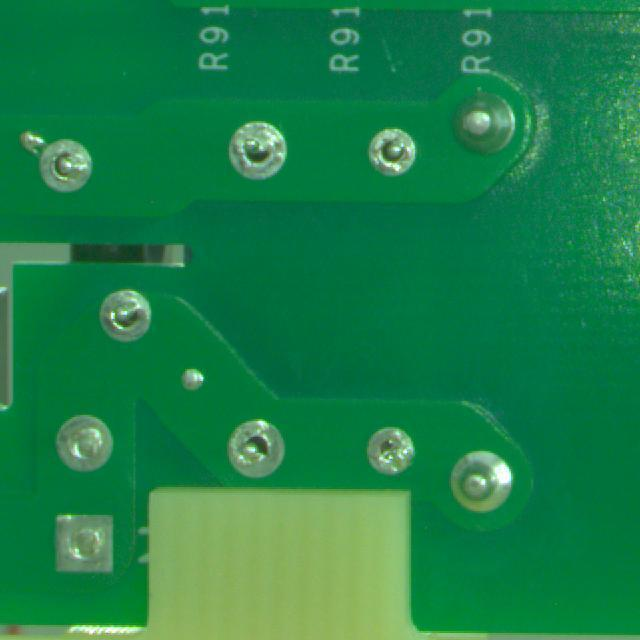Insufficient solder: (24, 130, 99, 200), (47, 506, 117, 579), (225, 113, 293, 186), (48, 409, 123, 474), (86, 277, 157, 344), (221, 416, 285, 479), (362, 421, 424, 482), (365, 115, 424, 176)
